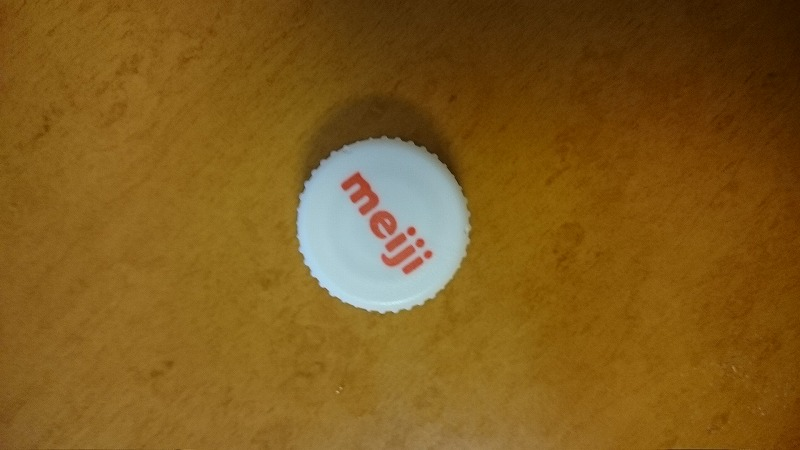B: (295, 136, 481, 312)
